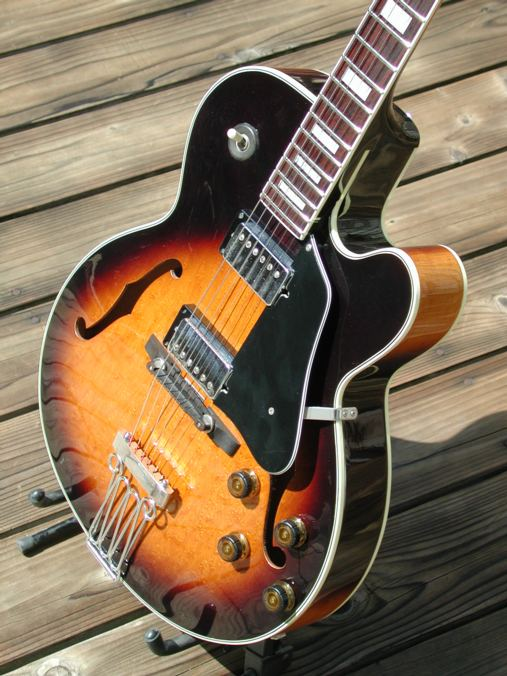guitar: (36, 1, 470, 646)
